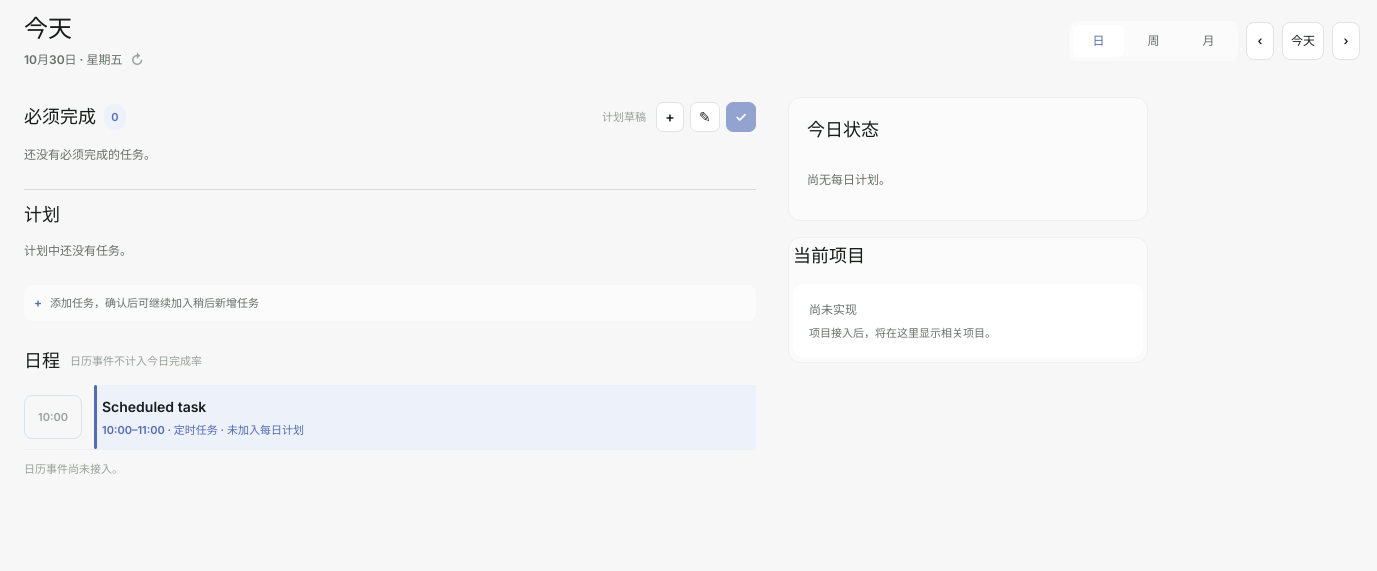
Test: Today Desktop › renders schedule context and keeps failed refreshes from enabling stale edits
Expected: the text "计划草稿" is shown, [602,108,646,126]
Expected: the text "Scheduled task" is shown, [102,398,206,415]
Click the button "+ 添加任务，确认后可继续加入稍后新增任务".
click(155, 303)  # box [24,285,756,321]
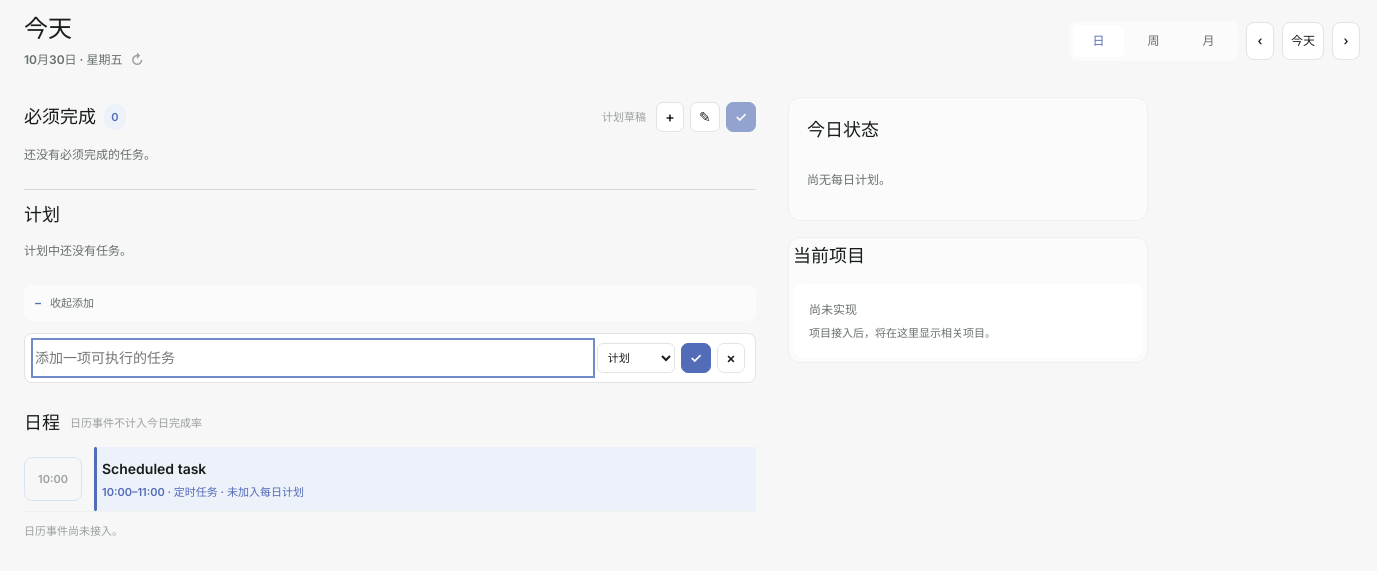
Click the button named "刷新".
click(137, 60)  # box [128,50,146,70]
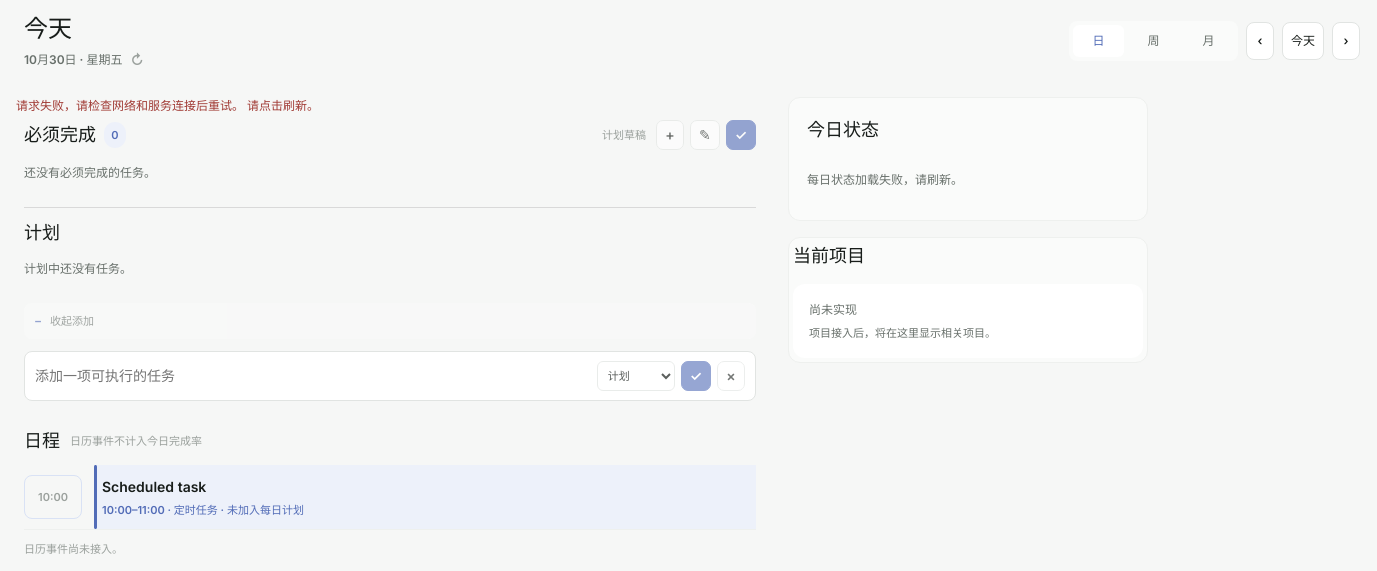
Expected: the message "请求失败，请检查网络和服务连接后重试。 请点击刷新。" is shown, [16,98,319,113]
Expected: the button named "创建并加入草稿" is disabled, [681,361,711,391]
